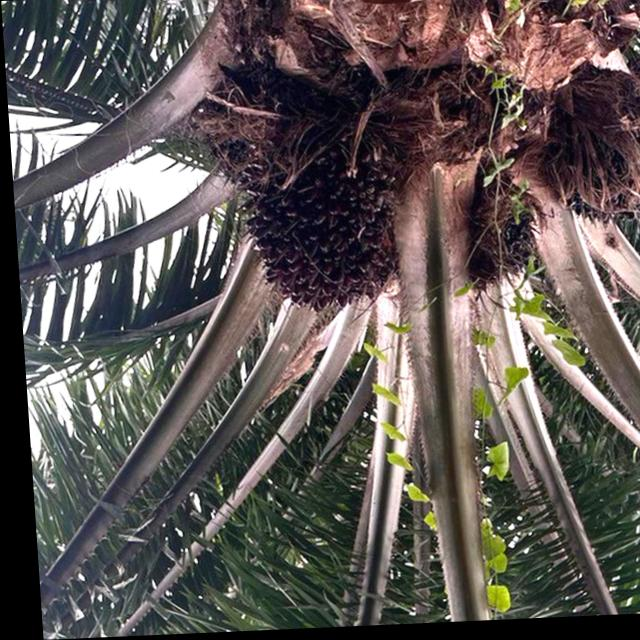ripe: (237, 174, 407, 318)
